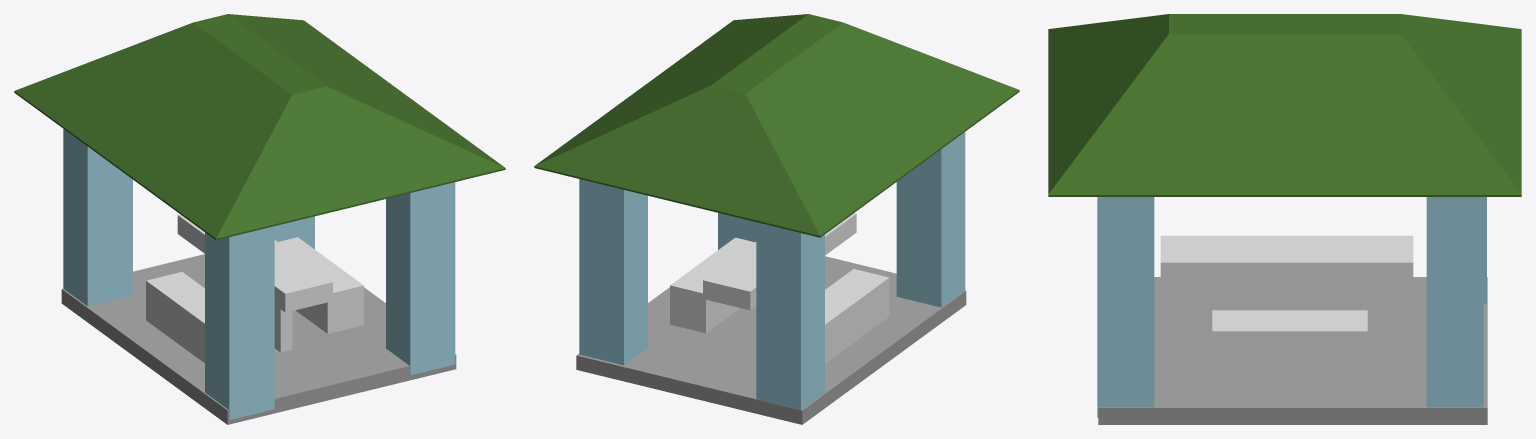
The model's file is Bsed_Shed_Ni_Justine_FIN.glb.
3 views of the same model, side by side, from view 1: azimuth 30°, elevation 25°; view 2: azimuth 150°, elevation 25°; view 3: azimuth 270°, elevation 25° (orthographic). The views are drawn at different scales.
Visible parts, largest first — view 1: Cube.002, Cube, Cube.005, Cube.003, Cube.006, Cube.007, Cube.001, Cube.008, Cube.004, Cube.009; view 2: Cube.002, Cube, Cube.006, Cube.004, Cube.005, Cube.007, Cube.008, Cube.001, Cube.003; view 3: Cube.002, Cube, Cube.001, Cube.003, Cube.004, Cube.008, Cube.009, Cube.007.
Boxes of the visible parts, box(x1,y1,x2,y2) form: Cube.002: box(14, 14, 505, 240); Cube: box(61, 254, 456, 424); Cube.005: box(205, 226, 274, 420); Cube.003: box(386, 182, 455, 375); Cube.006: box(63, 129, 132, 306); Cube.007: box(146, 272, 204, 362); Cube.001: box(177, 214, 332, 312); Cube.008: box(278, 237, 363, 333); Cube.004: box(274, 216, 314, 249); Cube.009: box(274, 305, 292, 352); Cube.002: box(534, 14, 1019, 237); Cube: box(576, 256, 966, 424); Cube.006: box(756, 222, 824, 409); Cube.004: box(579, 179, 647, 365); Cube.005: box(896, 132, 965, 307); Cube.007: box(825, 269, 889, 363); Cube.008: box(670, 237, 754, 333); Cube.001: box(703, 213, 856, 310); Cube.003: box(718, 213, 756, 249); Cube.002: box(1048, 14, 1521, 196); Cube: box(1098, 277, 1487, 424); Cube.001: box(1160, 235, 1413, 284); Cube.003: box(1097, 197, 1154, 417); Cube.004: box(1426, 197, 1483, 407); Cube.008: box(1212, 310, 1367, 377); Cube.009: box(1206, 285, 1318, 340); Cube.007: box(1318, 285, 1362, 310).
Size of what is drawn, in the model's own units: 5.73 by 5.38 by 6.91.
